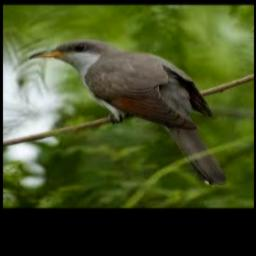Cuckoo: (30, 39, 227, 187)
